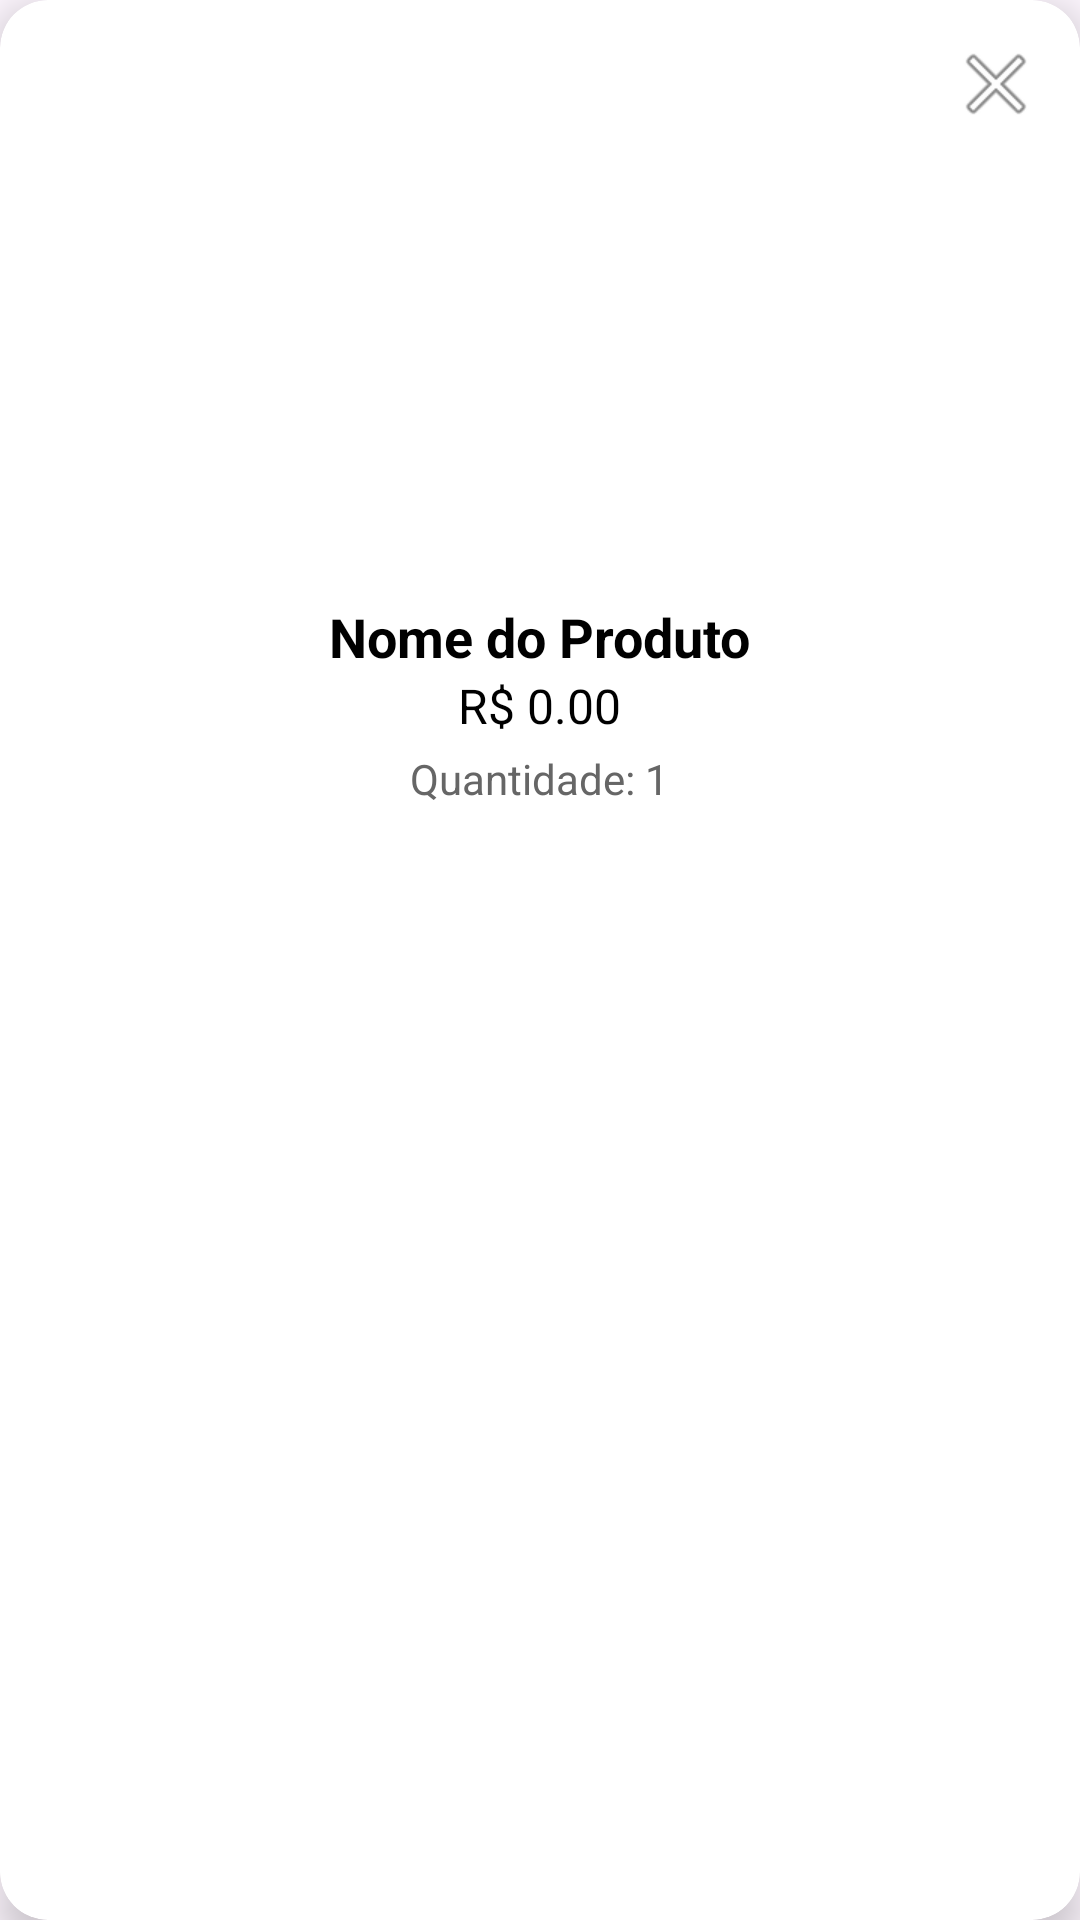

Screen size 1080px×1920px. Icon name, then its center in pixels as [x,y]:
Remover: [996,84]
